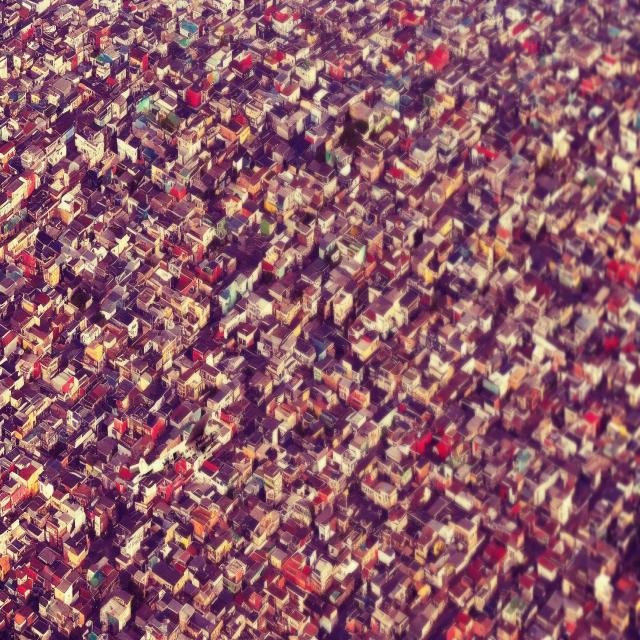airplane: (129, 409, 221, 482)
